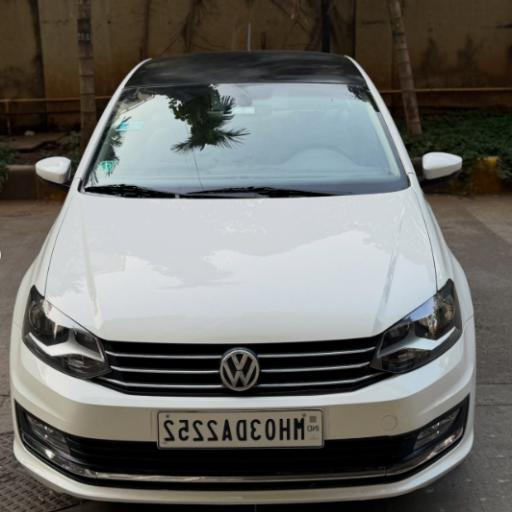License: (157, 400, 324, 452)
